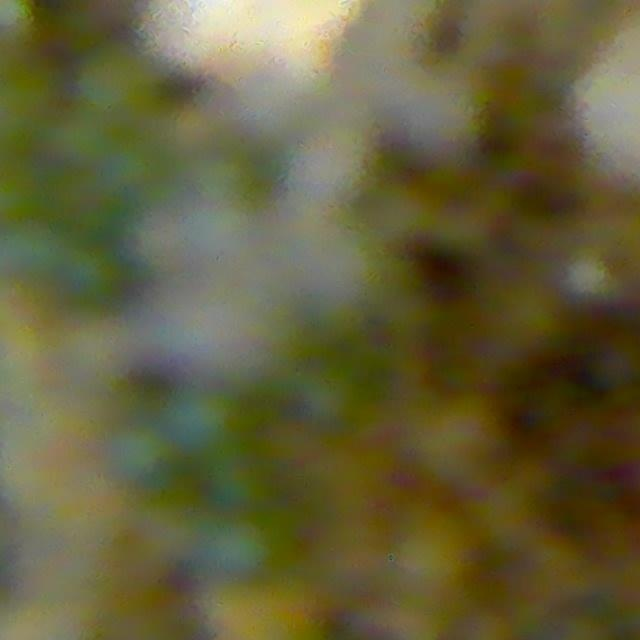SeaGrape: (393, 510, 475, 595), (163, 386, 243, 463), (197, 512, 276, 585), (103, 417, 173, 486), (588, 333, 640, 398)
